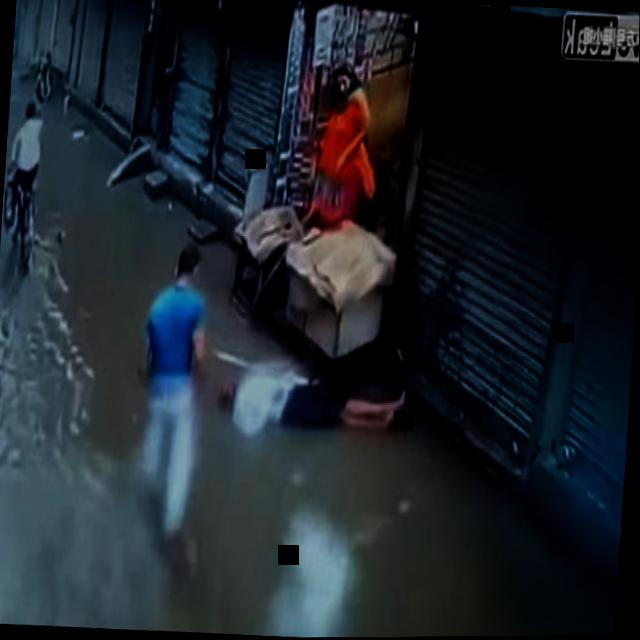Fall-Detected: (213, 341, 423, 447)
